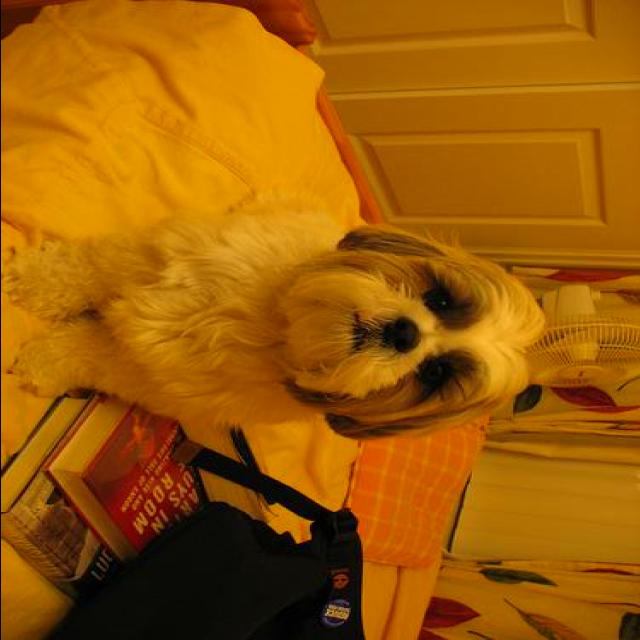shih_tzu: (22, 185, 544, 443)
